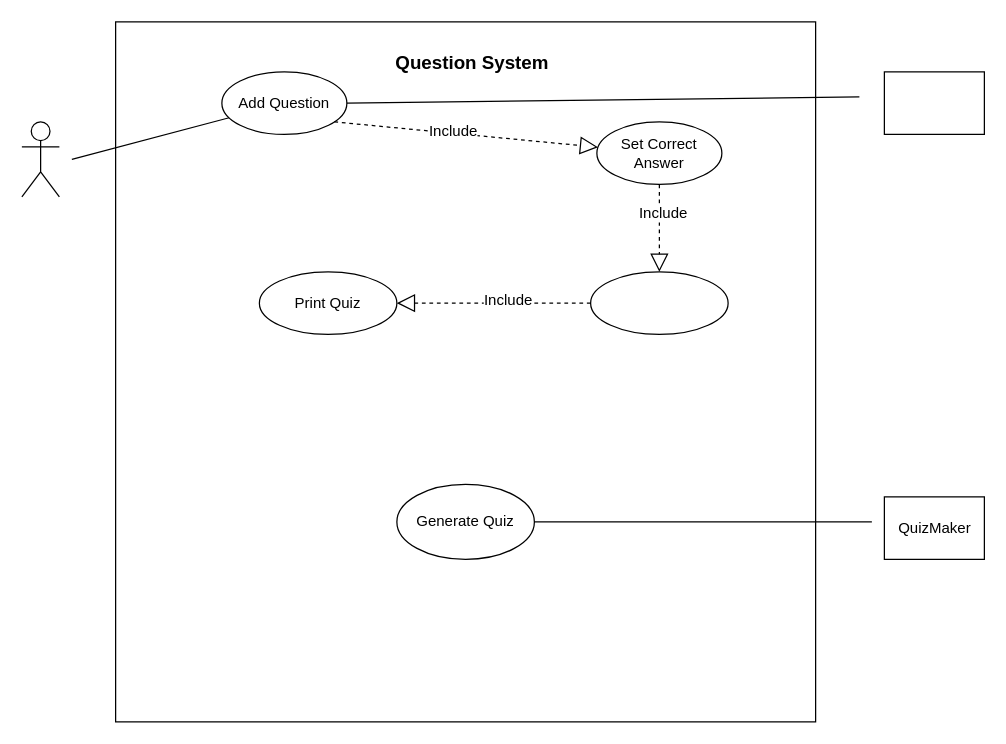
The diagram is 1006 pixels wide and 744 high, and some of its shapes have lost their labels. Each missing label, with the centre of its shape:
"Controller" belongs at pixel 933 102.
"Set False Answers" belongs at pixel 658 302.
"User" belongs at pixel 40 159.
